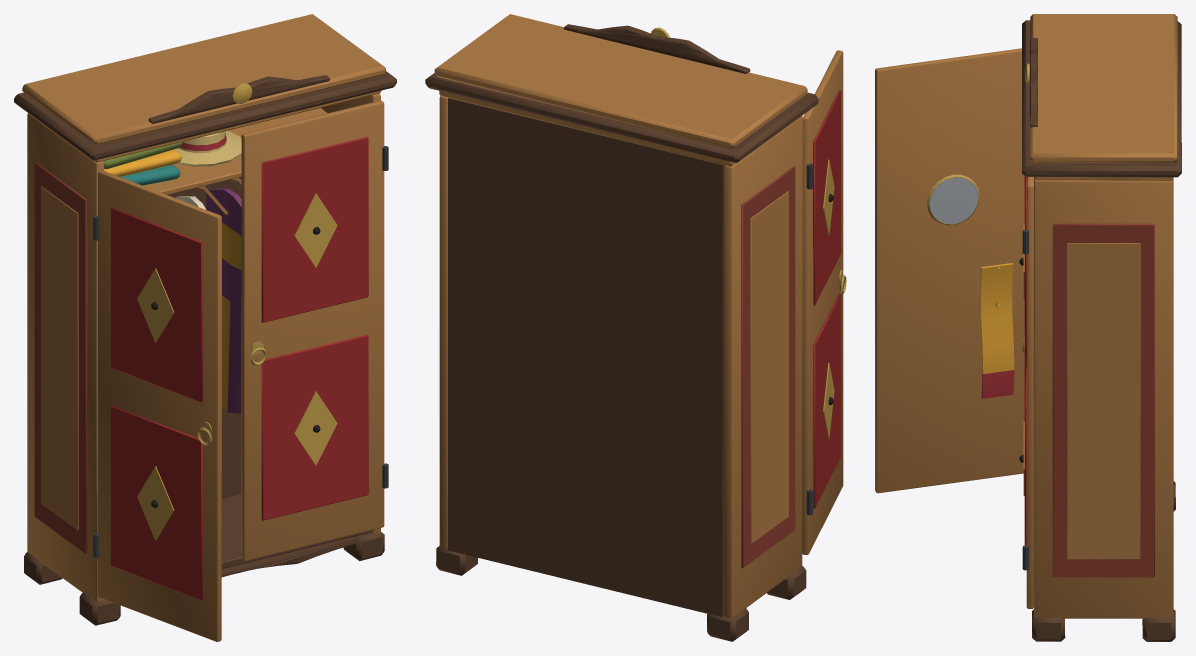
File: deco_wardrobe.fbx
3 renders of one model, left to right at view 1: azimuth 30°, elevation 25°; view 2: azimuth 150°, elevation 25°; view 3: azimuth 270°, elevation 25°, orthographic. The views are drawn at different scales.
Visible parts, largest first — view 1: Wardrobe_Carcass, Wardrobe_DoorR, Wardrobe_DoorL, Wardrobe_Clothes; view 2: Wardrobe_Carcass, Wardrobe_DoorL; view 3: Wardrobe_Carcass, Wardrobe_DoorL, Wardrobe_DoorR.
Boxes of the visible parts, bbox=[...] form: Wardrobe_Carcass: bbox=[14, 14, 396, 625]; Wardrobe_DoorR: bbox=[241, 100, 388, 560]; Wardrobe_DoorL: bbox=[93, 170, 221, 641]; Wardrobe_Clothes: bbox=[104, 130, 241, 413]; Wardrobe_Carcass: bbox=[425, 14, 818, 641]; Wardrobe_DoorL: bbox=[802, 50, 846, 554]; Wardrobe_Carcass: bbox=[1022, 14, 1181, 641]; Wardrobe_DoorL: bbox=[875, 48, 1024, 493]; Wardrobe_DoorR: bbox=[1019, 176, 1033, 608].
Bounding box in the file's own units: 172 × 274 × 150.
